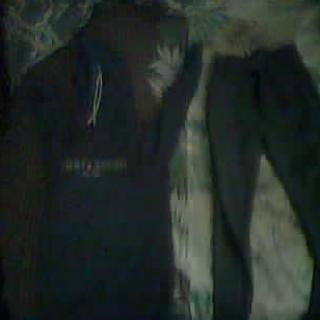Blue Hoodie: (29, 54, 188, 318)
Blue Sweatpants: (205, 47, 320, 320)
